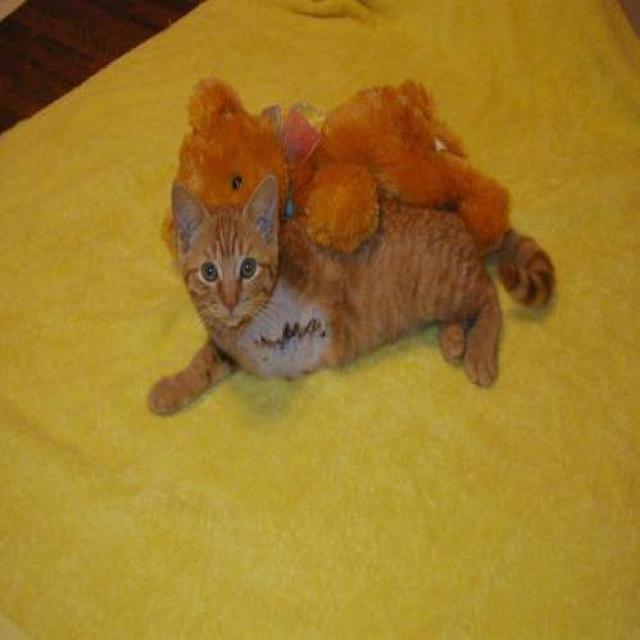cat: (143, 169, 516, 435)
